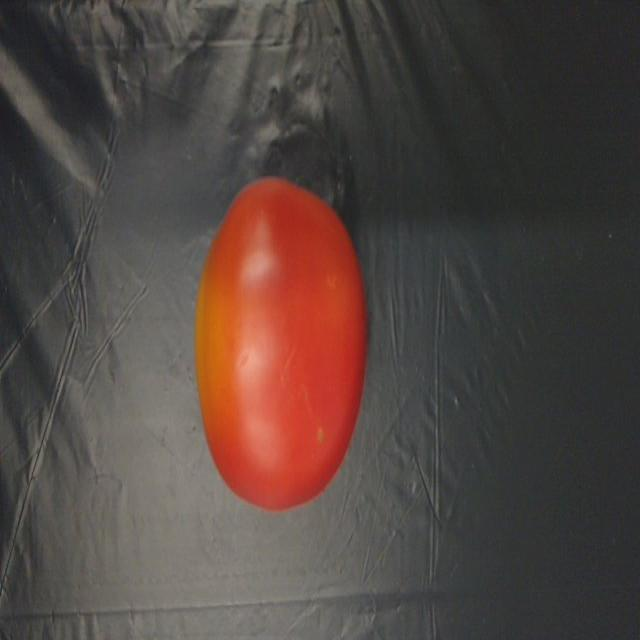kirmizi: (188, 162, 402, 540)
